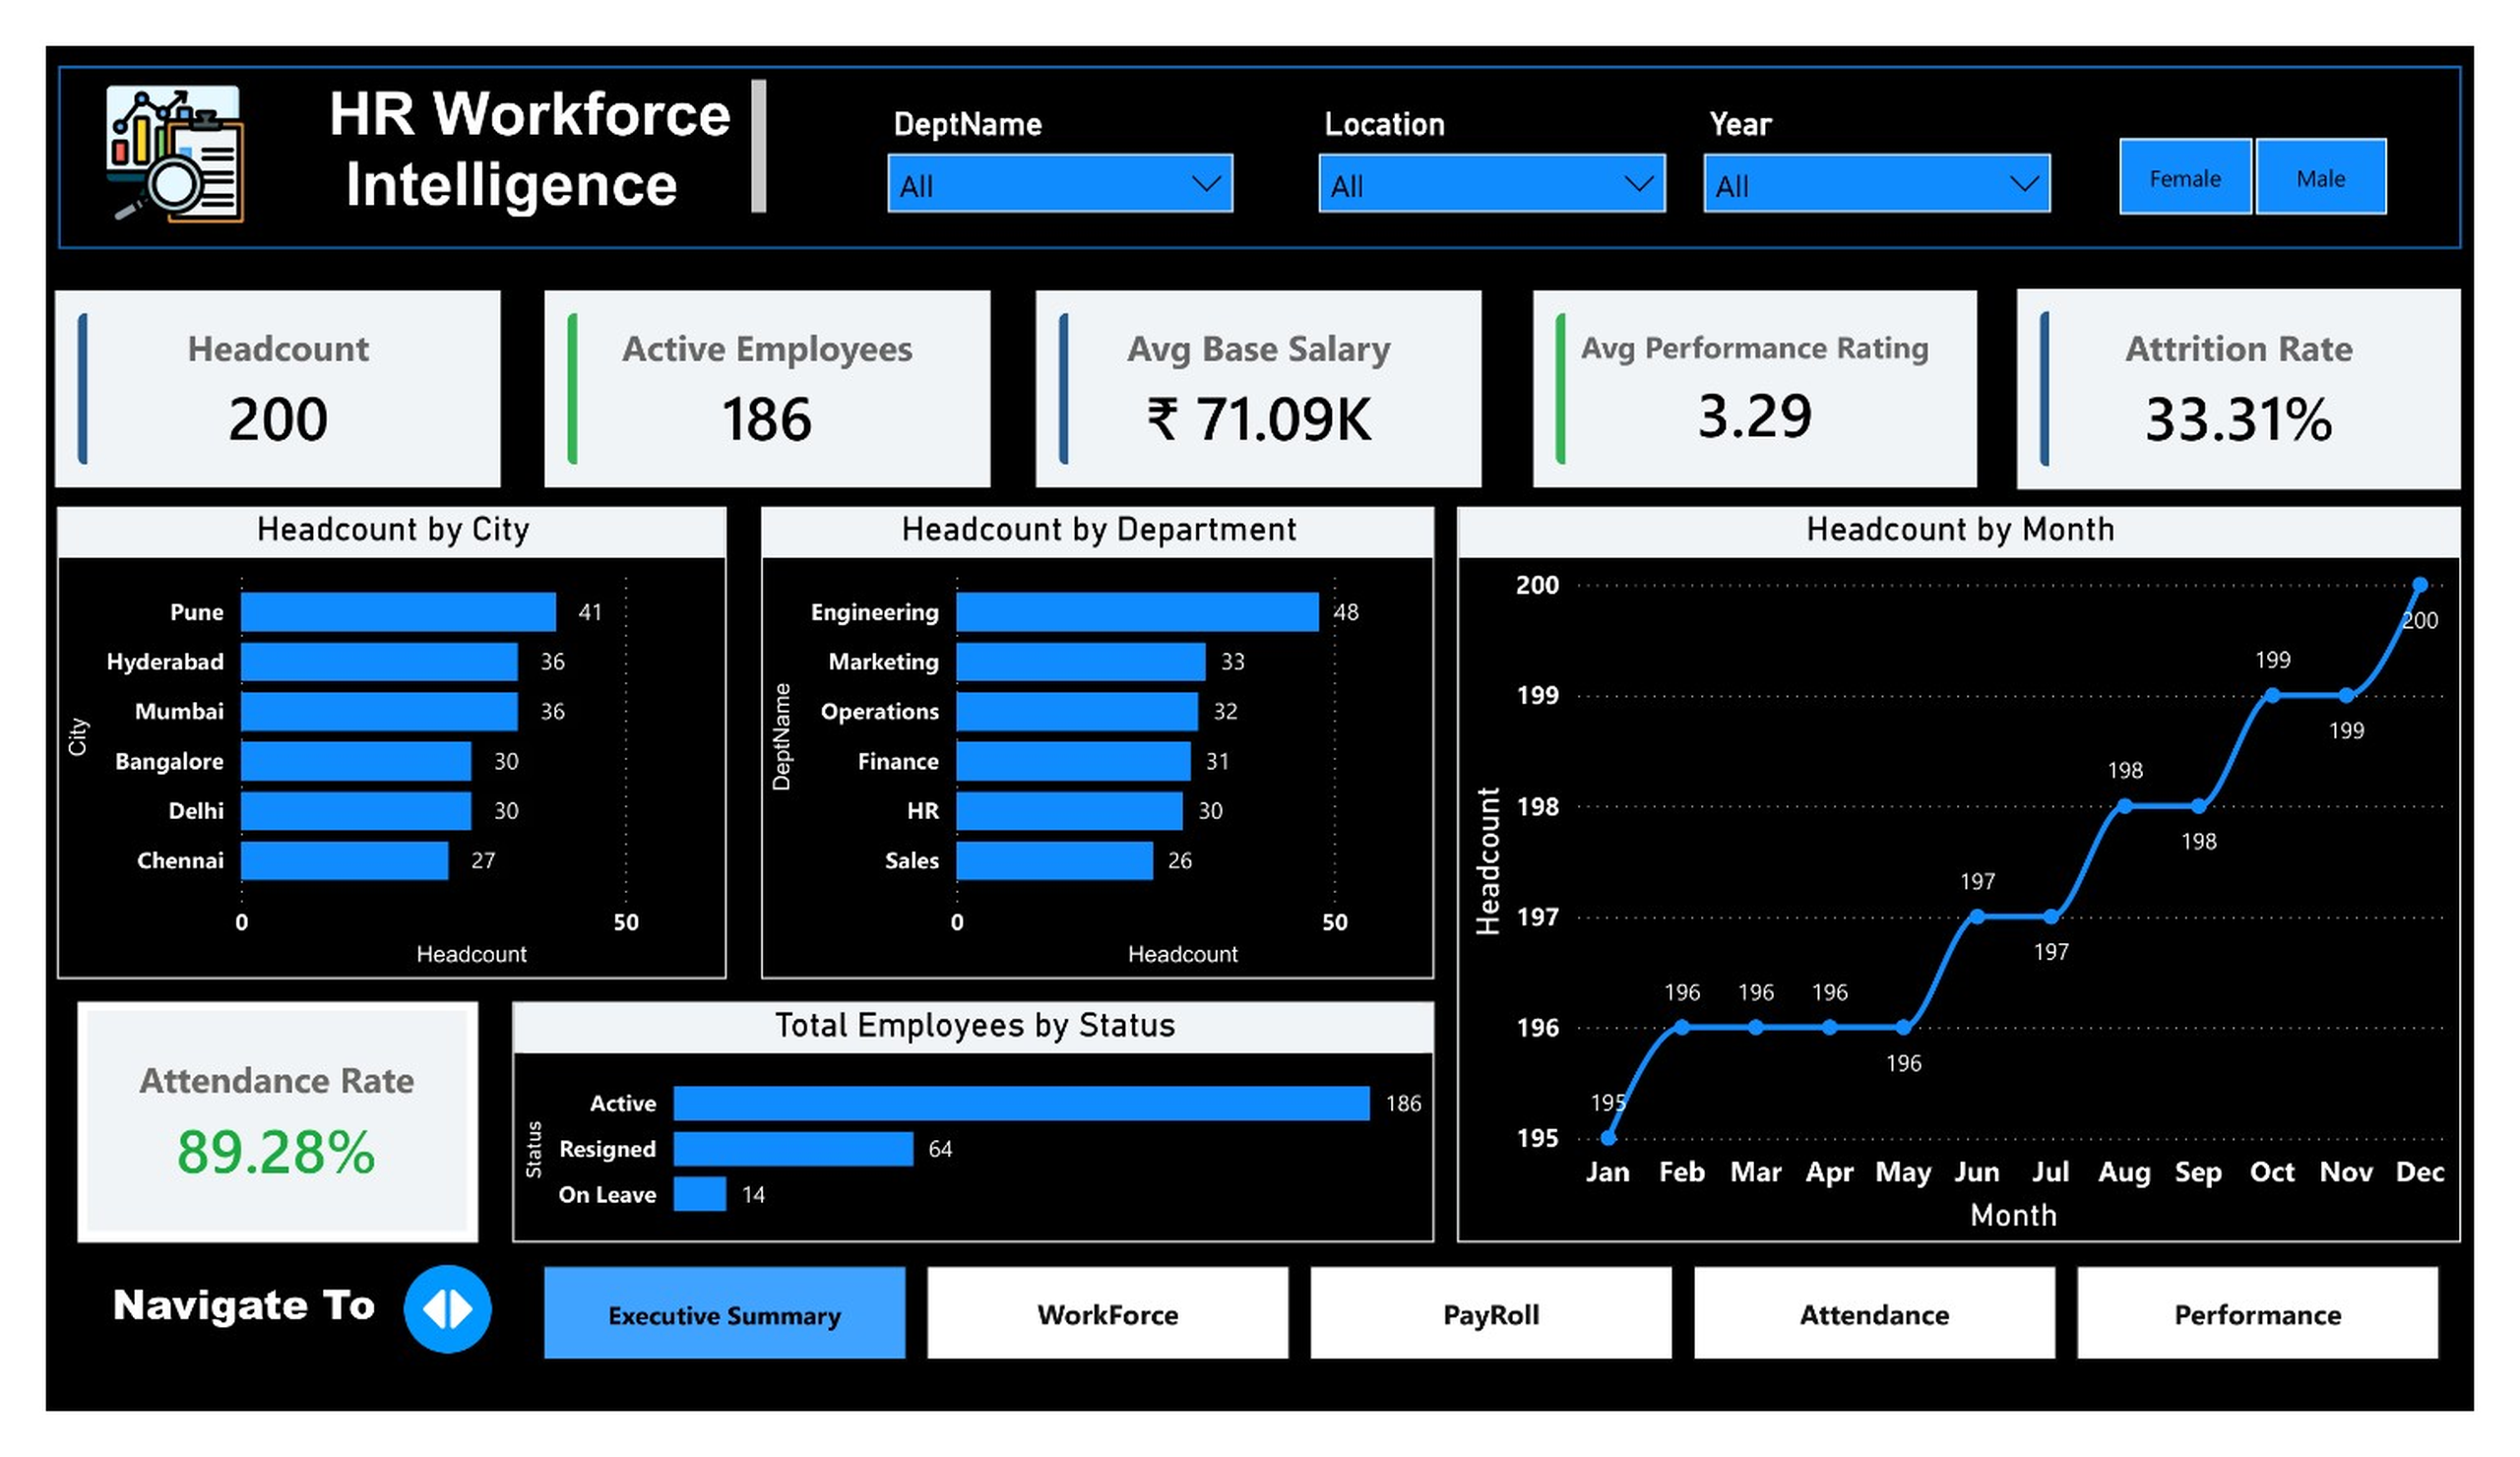

The dashboard page shown, as its layout file describes it:
{"tool":"powerbi","page":{"name":"Executive Summary","canvas":[1280,720],"ordinal":0},"visuals":[{"type":"cardVisual","fields":{"Data":["_measure.Headcount"]},"box":[0,124.3,245.7,114.2],"z":0,"group":"g1"},{"type":"shape","box":[21.3,631.1,1237.7,77],"z":0},{"type":"shape","box":[7.1,11.4,1265.7,95.7],"z":1000},{"type":"cardVisual","fields":{"Data":["_measure.ActiveCount"]},"box":[257.9,124.3,245.7,114.2],"z":1000,"group":"g1"},{"type":"cardVisual","fields":{"Data":["_measure.Avg Base Salary"]},"box":[517.1,124.3,245.7,114.2],"z":2000,"group":"g1"},{"type":"lineChart","fields":{"Category":["DateTable.Month"],"Y":["_measure.Headcount"]},"box":[744.5,243.4,528.5,387.4],"z":2000},{"type":"cardVisual","fields":{"Data":["_measure.Avg Performance Rating"]},"box":[778.7,124.3,244.3,114.9],"z":3000,"group":"g1"},{"type":"barChart","fields":{"Category":["Employees.Status"],"Y":["_measure.Total Employees"]},"box":[246.2,504,485.3,126.7],"z":3000},{"type":"cardVisual","fields":{"Data":["_measure.Attrition Rate"]},"box":[1034.4,123.2,244,116],"z":4000,"group":"g1"},{"type":"cardVisual","fields":{"Data":["_measure.Attendence Rate"]},"box":[17.3,504,210.2,126.7],"z":4000},{"type":"barChart","title":"Headcount by Department","fields":{"Category":["Departments.DeptName"],"Y":["_measure.Headcount"]},"box":[377.3,243.4,354.2,249.1],"z":5000},{"type":"barChart","fields":{"Category":["Locations.City"],"Y":["_measure.Headcount"]},"box":[5.8,243.4,352.8,249.1],"z":6000},{"type":"textbox","box":[144.3,13.1,241,82],"z":7000},{"type":"slicer","fields":{"Values":["Departments.DeptName"]},"box":[434.3,25.7,202,68.6],"z":8000},{"type":"slicer","fields":{"Values":["Locations.City"]},"box":[661.4,25.7,203,68.6],"z":9000},{"type":"slicer","fields":{"Values":["DateTable.Year"]},"box":[864.3,25.7,203,68.6],"z":10000},{"type":"slicer","fields":{"Values":["Employees.Gender"]},"box":[1067.2,41.8,191,53.7],"z":11000},{"type":"group","id":"g1","title":"Group 1","box":[0,123.2,1278.6,116.1],"z":12000},{"type":"pageNavigator","box":[262.3,642.6,1000,50.8],"z":13000},{"type":"textbox","box":[24.6,642.6,159,50.8],"z":14000},{"type":"image","box":[0,19.4,137.3,76.1],"z":15000},{"type":"image","box":[183.6,642.6,55.7,45.9],"z":16000}]}

Visuals, with their boxes in screenshot pixels (x1, y1, x2, y2), scaled from the page's 1280x720 canvas onto the 2520x1457 screenshot:
cardVisual - _measure.Headcount: (0,252,483,482)
shape: (42,1277,2479,1433)
shape: (14,23,2506,217)
cardVisual - _measure.ActiveCount: (508,252,991,482)
cardVisual - _measure.Avg Base Salary: (1018,252,1502,482)
lineChart - DateTable.Month x _measure.Headcount: (1466,492,2506,1277)
cardVisual - _measure.Avg Performance Rating: (1533,252,2014,484)
barChart - Employees.Status x _measure.Total Employees: (484,1020,1440,1276)
cardVisual - _measure.Attrition Rate: (2037,249,2517,484)
cardVisual - _measure.Attendence Rate: (34,1020,448,1276)
"Headcount by Department" barChart: (743,492,1440,996)
barChart - Locations.City x _measure.Headcount: (12,492,706,996)
textbox: (284,27,759,192)
slicer - Departments.DeptName: (855,52,1253,191)
slicer - Locations.City: (1302,52,1702,191)
slicer - DateTable.Year: (1702,52,2102,191)
slicer - Employees.Gender: (2101,85,2477,193)
"Group 1" group: (0,249,2517,484)
pageNavigator: (517,1300,2486,1403)
textbox: (48,1300,361,1403)
image: (0,39,271,193)
image: (361,1300,472,1393)
